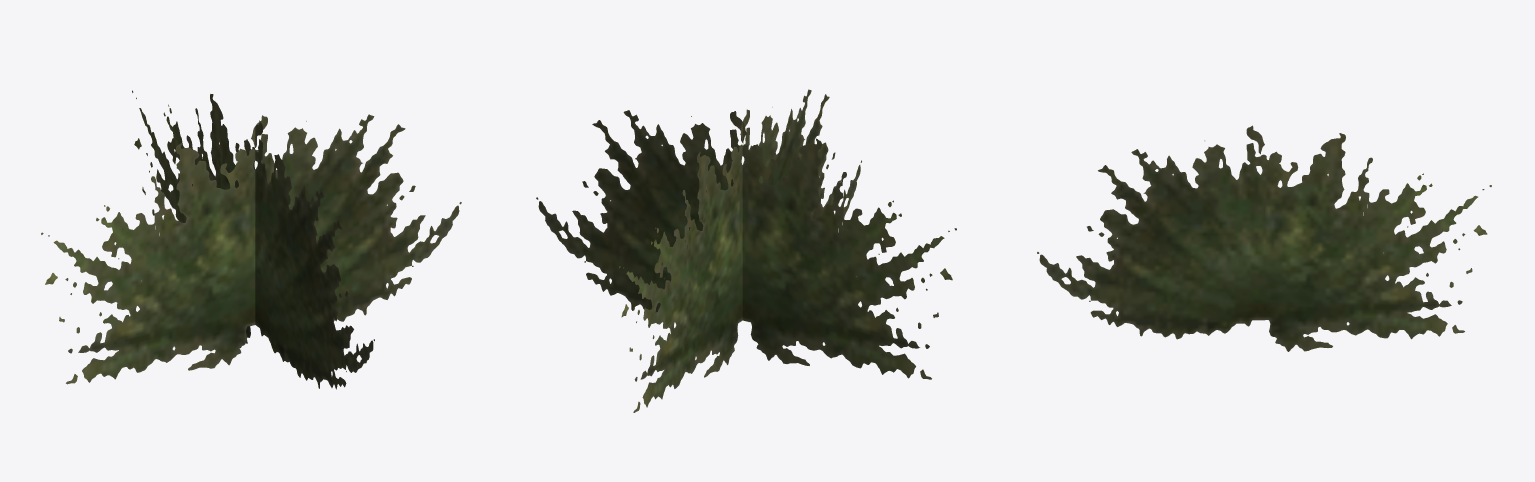
Rendered from shrb_arid_green_a4_l1.fbx.
3 views of the same model, side by side, from view 1: azimuth 30°, elevation 25°; view 2: azimuth 150°, elevation 25°; view 3: azimuth 270°, elevation 25° (orthographic). The views are drawn at different scales.
Parts seen in each view (by area): view 1: mesh_node; view 2: mesh_node; view 3: mesh_node.
Boxes of the visible parts, left/top/right/bottom form: mesh_node: left=41, top=90, right=461, bottom=389; mesh_node: left=536, top=89, right=956, bottom=412; mesh_node: left=1037, top=125, right=1491, bottom=351.
Size of the model in its own units: 2.54 by 1.32 by 2.54.
Materials: 1 (1 with a texture image).
